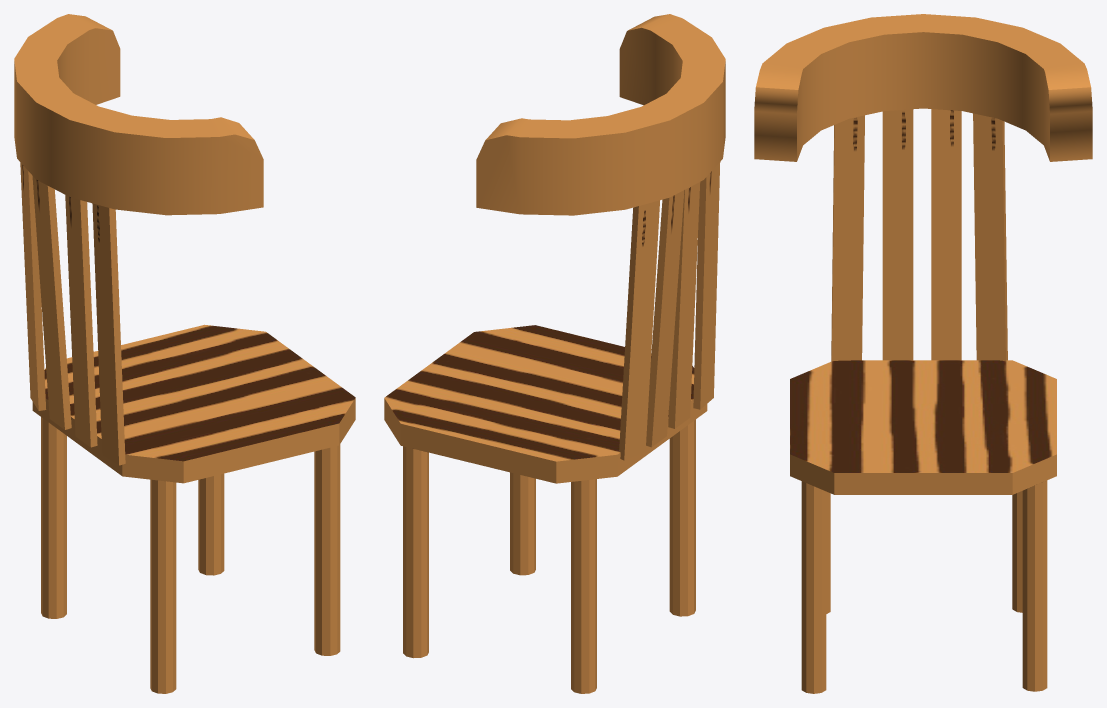
File: chair.fbx
3 renders of one model, left to right at view 1: azimuth 30°, elevation 25°; view 2: azimuth 150°, elevation 25°; view 3: azimuth 270°, elevation 25°, orthographic.
Visible parts, largest first — view 1: egyptian_chair; view 2: egyptian_chair; view 3: egyptian_chair.
Part boxes in pixels (x1,y1,x2,y2): egyptian_chair: (14,14,355,693); egyptian_chair: (384,14,725,693); egyptian_chair: (754,14,1092,693).
Size of the model in its own units: 525 by 1032 by 565.
